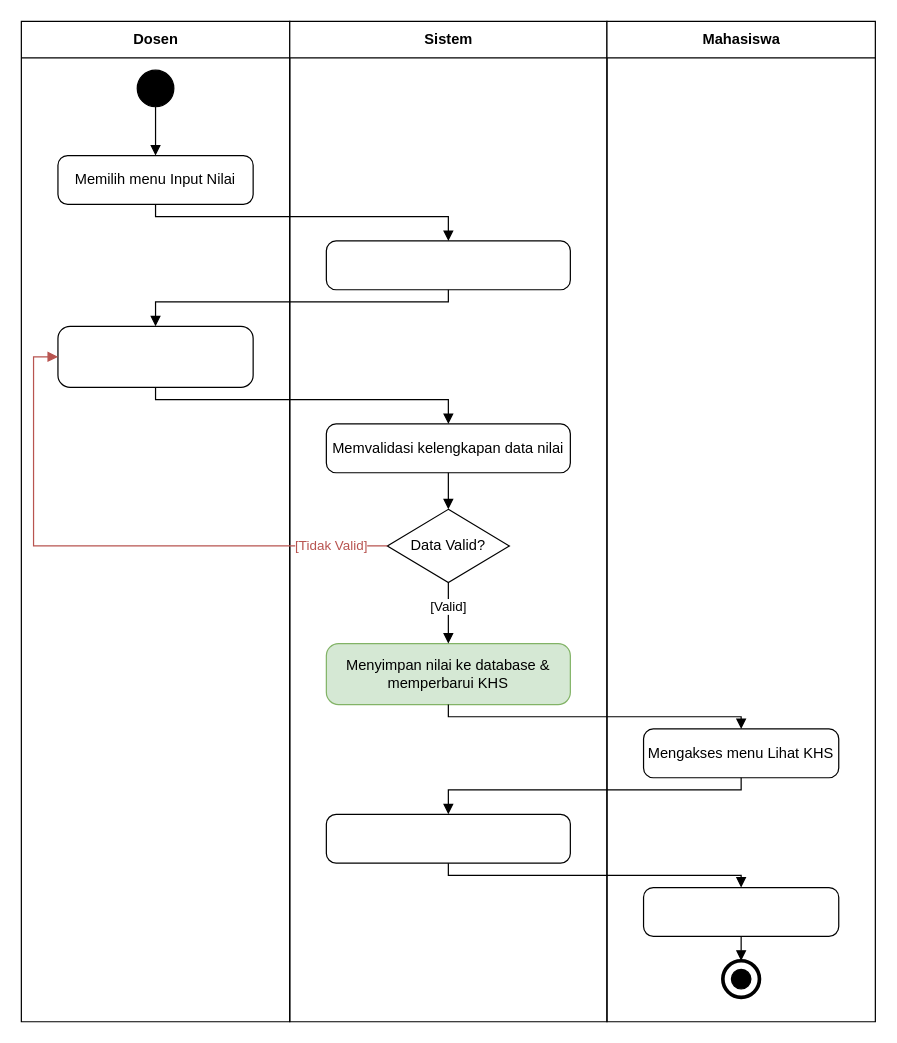
The diagram is 897 pixels wide and 1043 high, and some of its shapes have lost their labels. Here are the shapes that lost their labels. From the top down, the centre of each, then its label:
At (447,265): "Menampilkan form & daftar mahasiswa".
At (155,356): "Memasukkan data nilai mahasiswa & simpan".
At (447,838): "Menampilkan data KHS terbaru".
At (740,911): "Melihat KHS".
